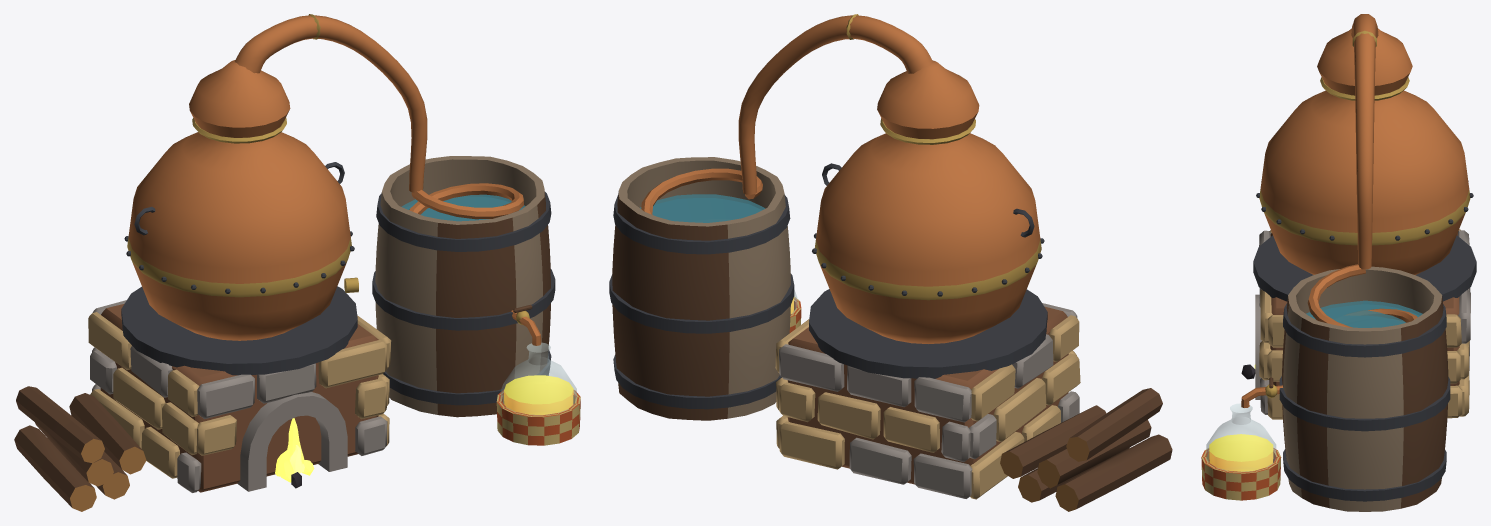
File: deco_brewing_still.fbx
3 views of the same model, side by side, from view 1: azimuth 30°, elevation 25°; view 2: azimuth 150°, elevation 25°; view 3: azimuth 270°, elevation 25° (orthographic). The views are drawn at different scales.
Parts seen in each view (by area): view 1: BrewingStill_Firebox, BrewingStill_Boiler, BrewingStill_Tub, BrewingStill_Jug, BrewingStill_Neck, BrewingStill_Coil; view 2: BrewingStill_Firebox, BrewingStill_Boiler, BrewingStill_Tub, BrewingStill_Neck, BrewingStill_Coil; view 3: BrewingStill_Tub, BrewingStill_Boiler, BrewingStill_Firebox, BrewingStill_Jug, BrewingStill_Neck, BrewingStill_Coil.
Part boxes in pixels (<box>): BrewingStill_Firebox: <box>14,286,391,511</box>; BrewingStill_Boiler: <box>124,60,358,340</box>; BrewingStill_Tub: <box>372,156,555,417</box>; BrewingStill_Jug: <box>496,342,580,445</box>; BrewingStill_Neck: <box>235,14,427,192</box>; BrewingStill_Coil: <box>409,183,541,345</box>; BrewingStill_Firebox: <box>775,289,1172,511</box>; BrewingStill_Boiler: <box>812,60,1044,343</box>; BrewingStill_Tub: <box>609,157,794,420</box>; BrewingStill_Neck: <box>738,14,932,194</box>; BrewingStill_Coil: <box>641,168,762,214</box>; BrewingStill_Tub: <box>1279,266,1450,511</box>; BrewingStill_Boiler: <box>1256,28,1473,275</box>; BrewingStill_Firebox: <box>1241,229,1476,419</box>; BrewingStill_Jug: <box>1201,403,1281,500</box>; BrewingStill_Neck: <box>1351,14,1378,269</box>; BrewingStill_Coil: <box>1241,264,1417,407</box>.
Size of the model in its own units: 277 by 213 by 138.
